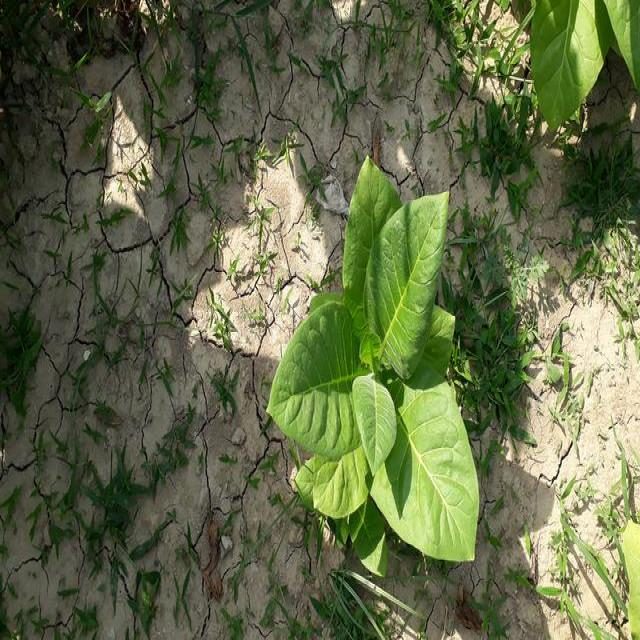crop: (272, 161, 499, 590)
